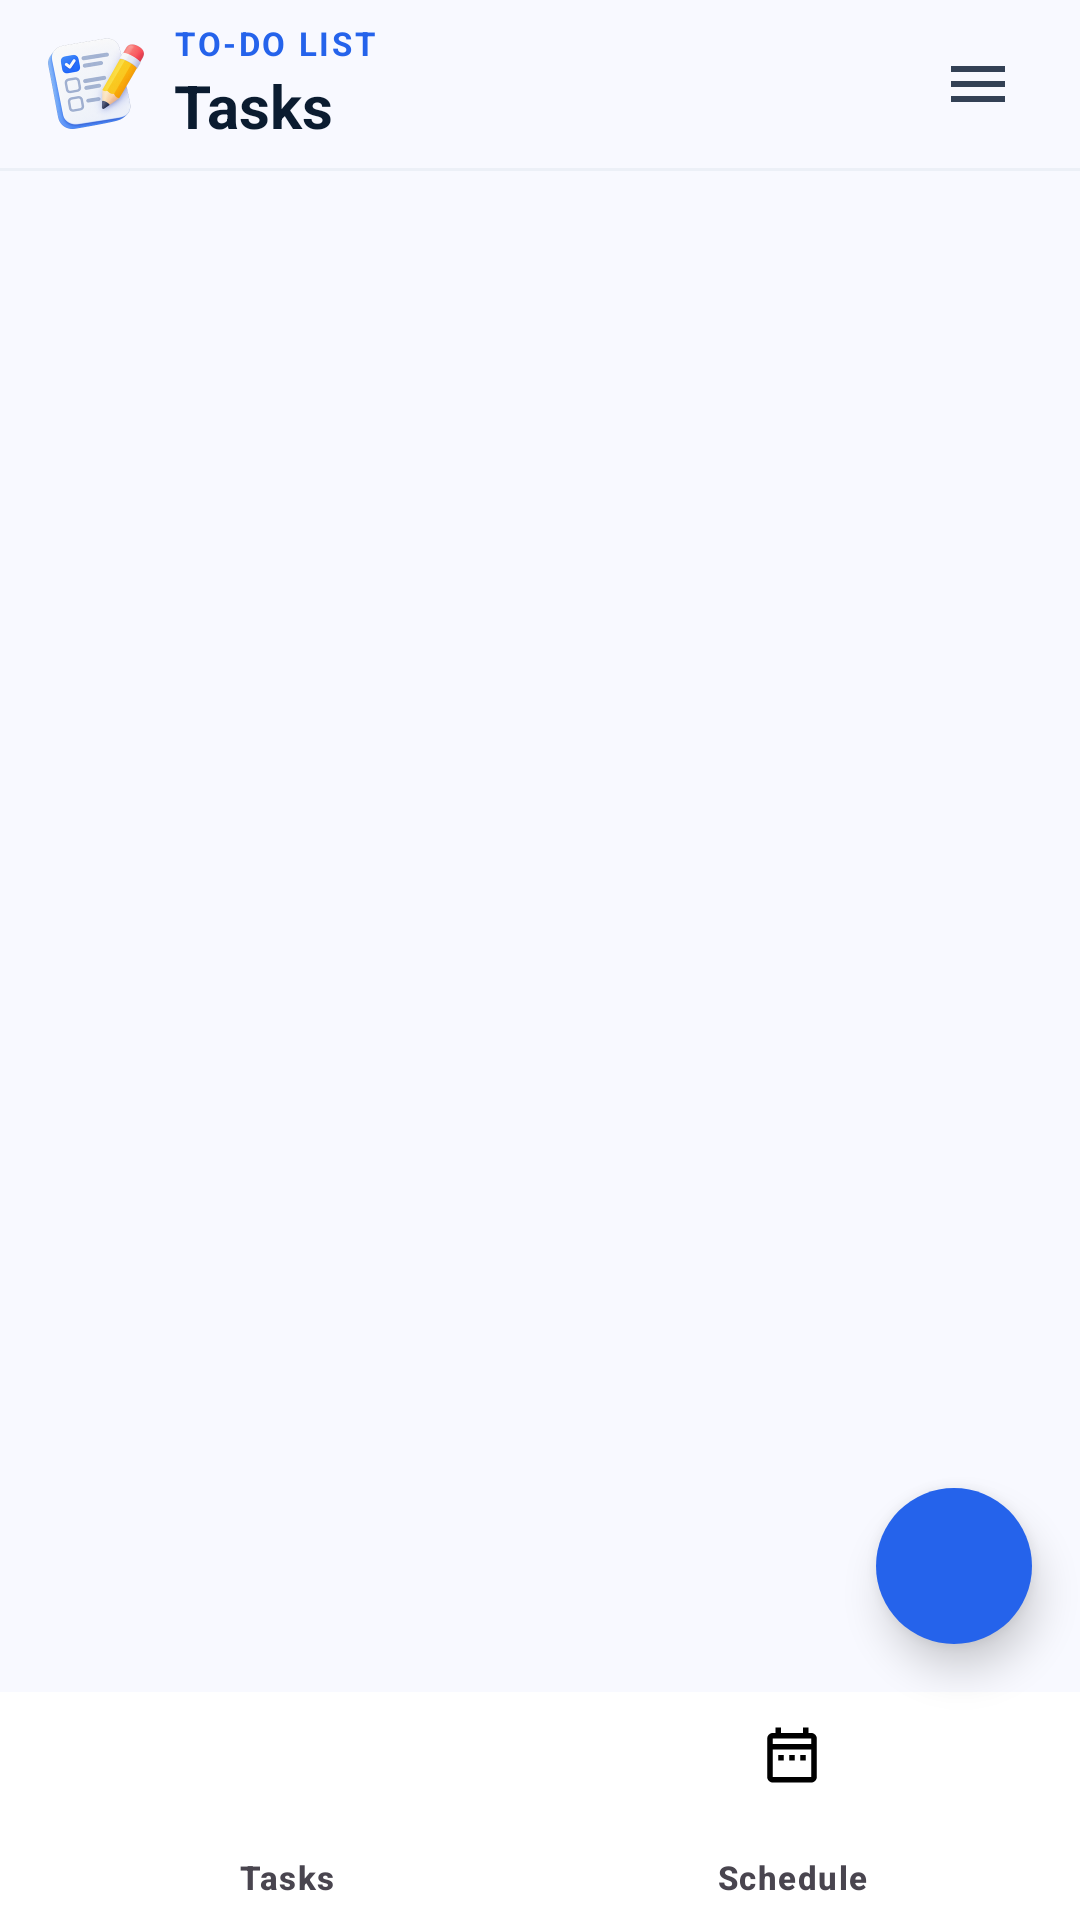

Screen size 1080×1920. Icon name, then its center in pixels as (x,y):
Menu: (978,84)
